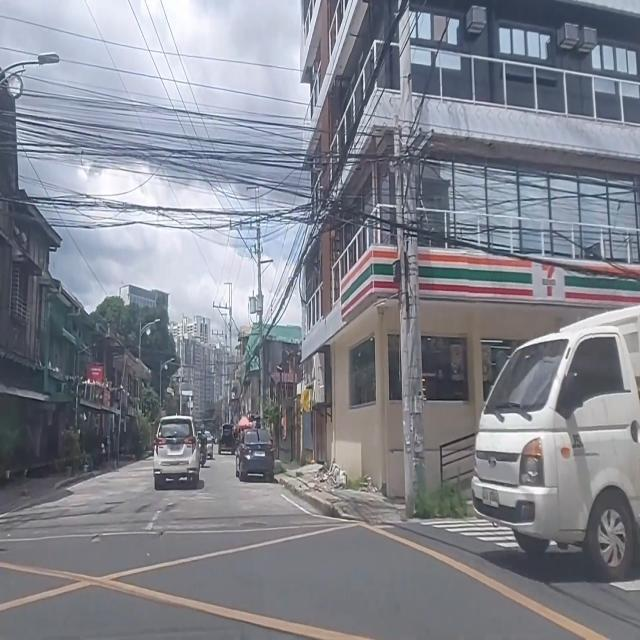car: (153, 413, 200, 490), (234, 427, 275, 482), (218, 422, 236, 455)
motorcycle: (200, 427, 208, 468)
truck: (472, 305, 640, 578)
